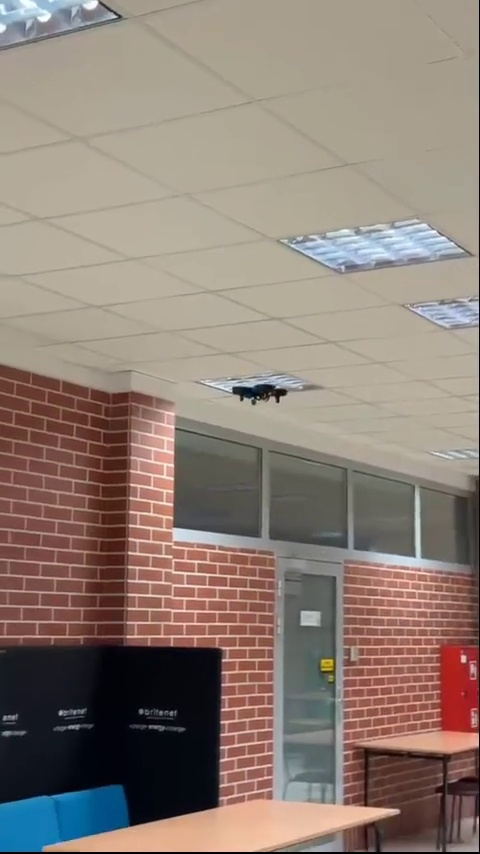drone: (230, 379, 287, 408)
